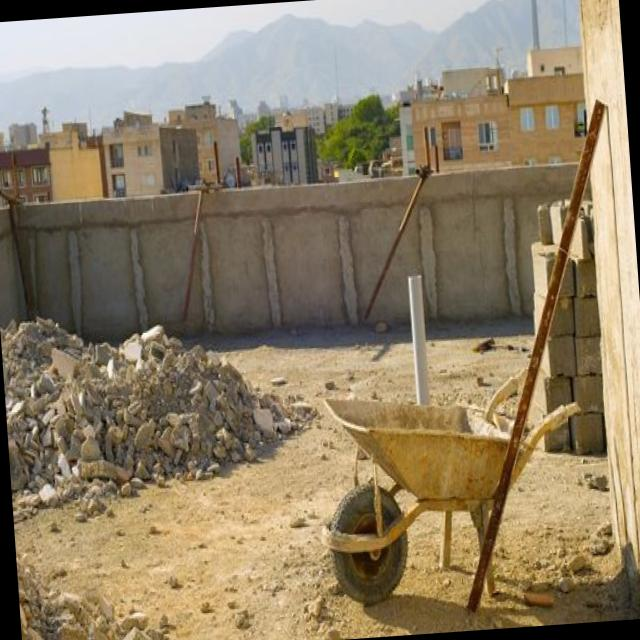rocks: (0, 318, 294, 518)
white-sand: (14, 408, 639, 640), (220, 334, 413, 403), (427, 323, 532, 404)
